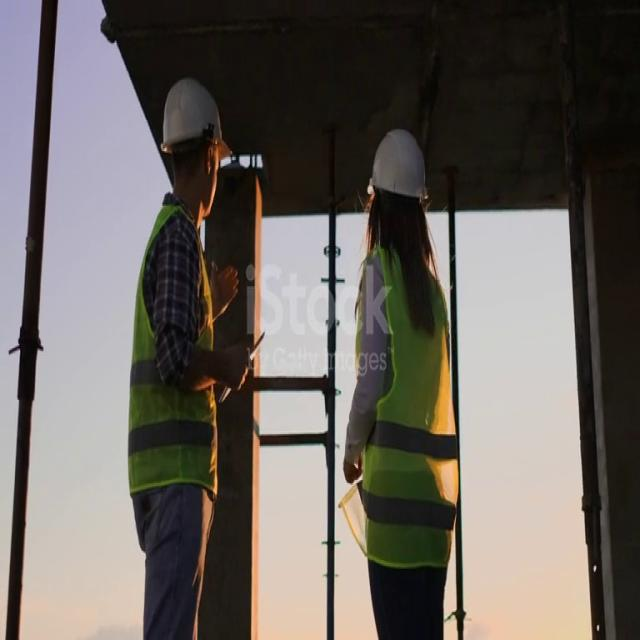capacete: (346, 119, 442, 217), (152, 76, 237, 172)
